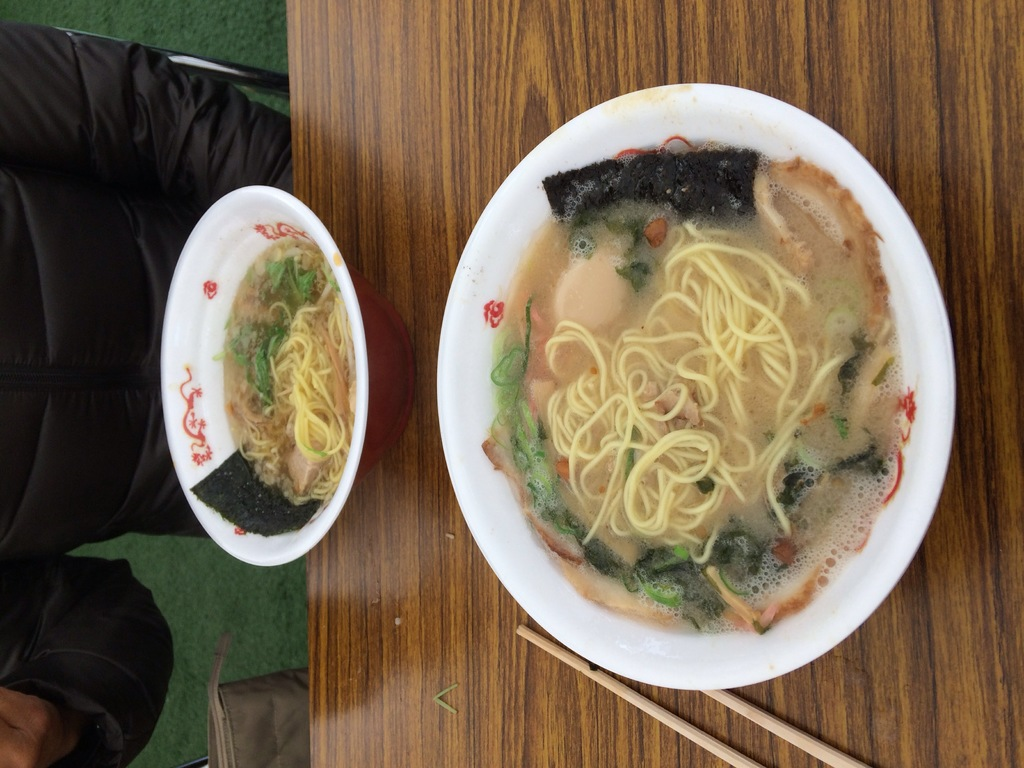pasta: (549, 214, 893, 566), (237, 300, 358, 504)
